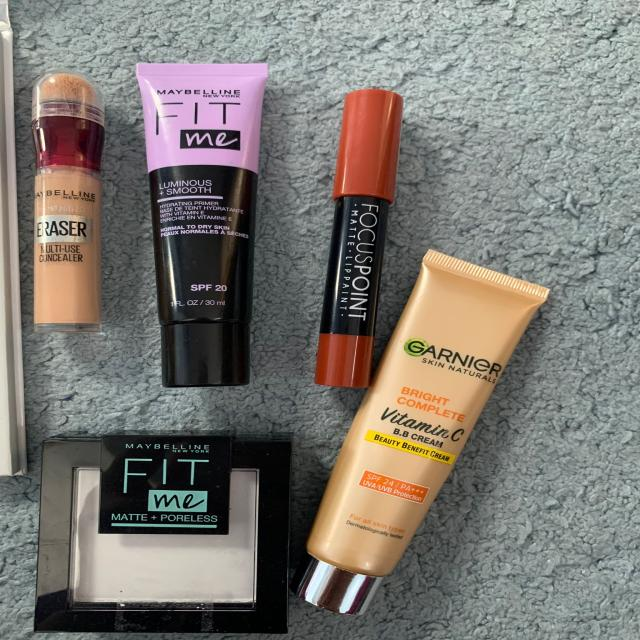concealer: (17, 42, 119, 352)
eye liner: (394, 227, 577, 639), (291, 70, 414, 397)
foundation: (117, 38, 284, 393)
highlighter: (39, 428, 287, 640)
